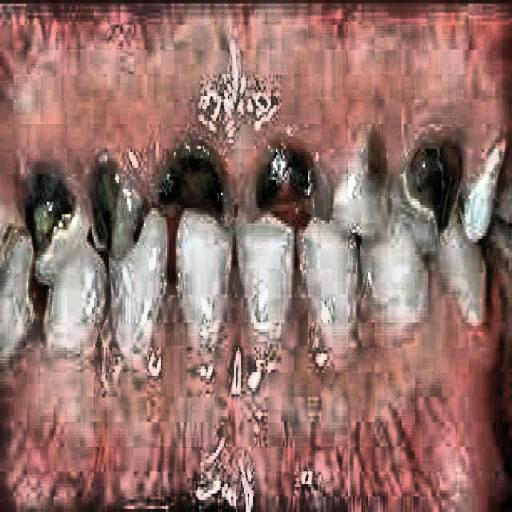Caries: (2, 118, 490, 276)
